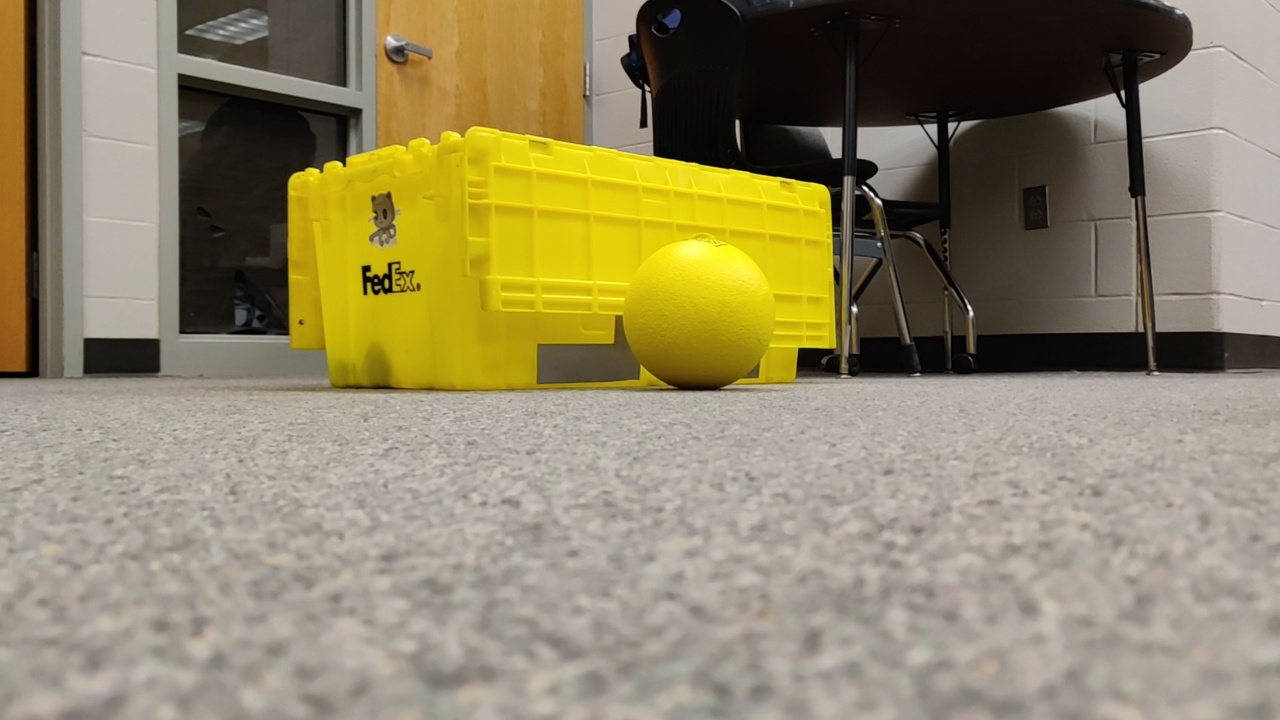Ball: (622, 234, 782, 404)
